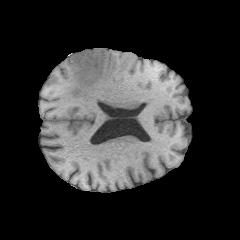glioma: (68, 49, 108, 99)
